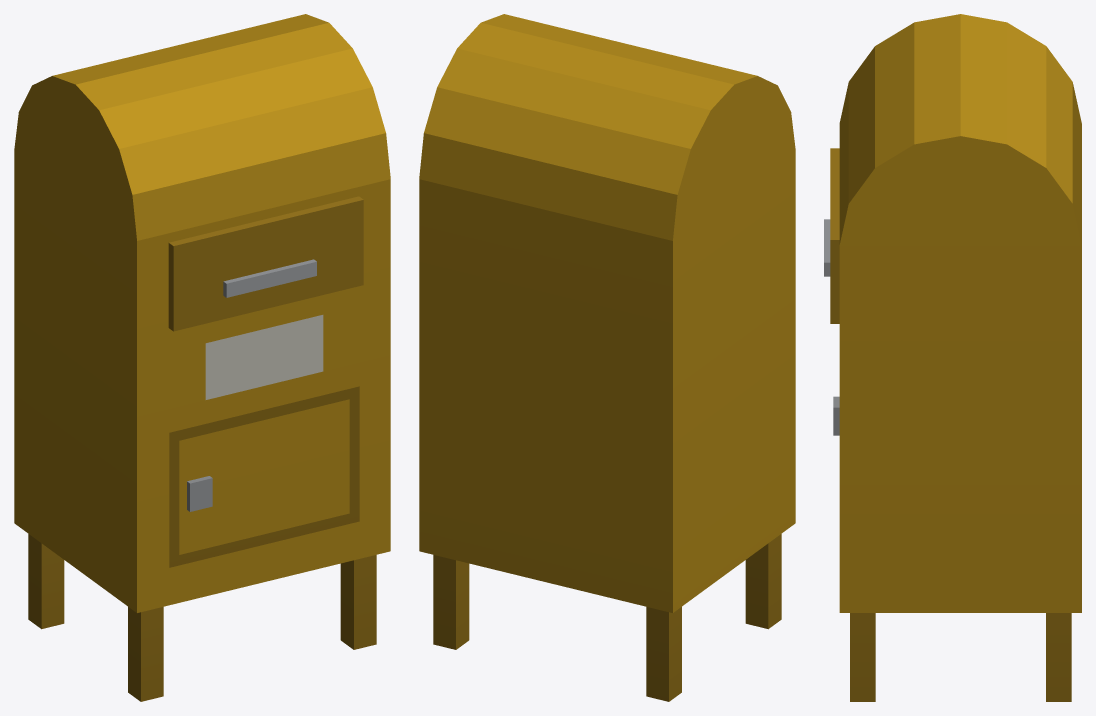
File: street.mailbox.yellow.glb
3 views of the same model, side by side, from view 1: azimuth 30°, elevation 25°; view 2: azimuth 150°, elevation 25°; view 3: azimuth 270°, elevation 25° (orthographic).
Parts seen in each view (by area): view 1: street_mailbox_yellow; view 2: street_mailbox_yellow; view 3: street_mailbox_yellow.
Boxes of the visible parts, x1=… form: street_mailbox_yellow: x1=14, y1=14, x2=390, y2=701; street_mailbox_yellow: x1=419, y1=14, x2=795, y2=701; street_mailbox_yellow: x1=824, y1=14, x2=1081, y2=701.
Size of what is drawn, in the model's own units: 0.56 by 1.22 by 0.5.
